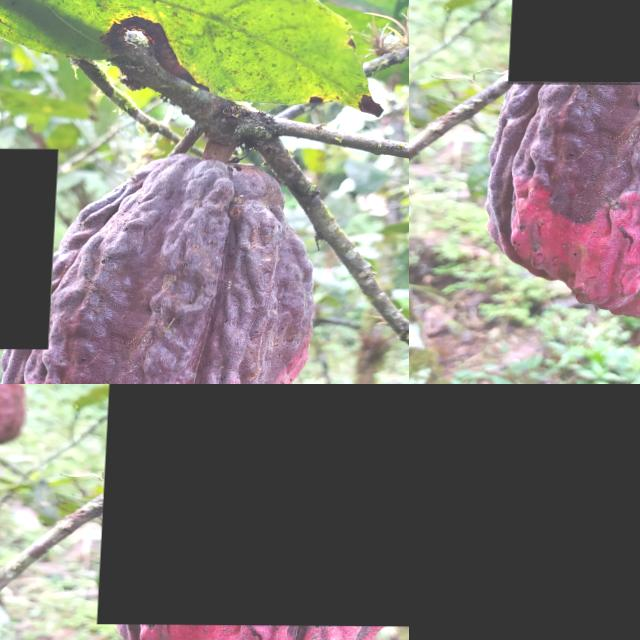Fitoftora: (409, 384, 640, 640), (0, 148, 60, 349)
Monilia: (102, 384, 409, 625), (511, 0, 640, 84)
